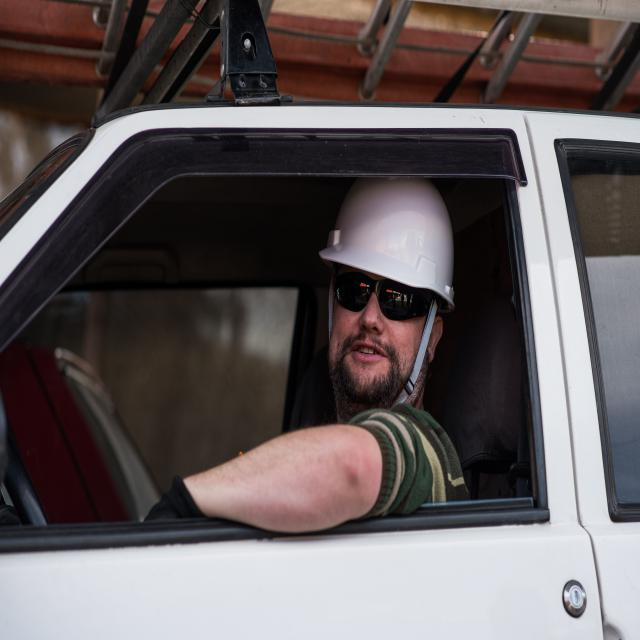capacete: (315, 172, 461, 314)
